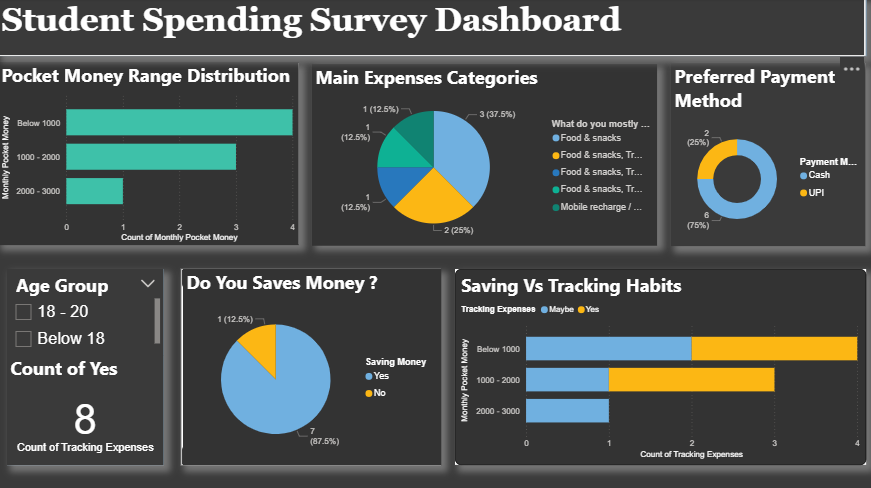

Layout of this report page (visuals, bound fields, positions):
{"tool":"powerbi","page":{"name":"Page 1","canvas":[1280,720],"ordinal":0},"visuals":[{"type":"shape","box":[671.7,417.1,583.9,300],"z":0},{"type":"shape","box":[0,415.6,639.5,300],"z":1000},{"type":"shape","box":[891.2,124.4,379,269.3],"z":2000},{"type":"shape","box":[481.5,124.4,380.5,269.3],"z":3000},{"type":"shape","box":[0,0,1270.2,83.4],"z":4000},{"type":"shape","box":[0,124.4,440.5,269.3],"z":5000},{"type":"actionButton","box":[0,0,100,40],"z":6000},{"type":"barChart","fields":{"Category":["Survey.  How much monthly pocket money do you receive (approx)?  "],"Y":["CountNonNull(Survey.  How much monthly pocket money do you receive (approx)?  )"]},"box":[0,124.4,440.5,269.3],"z":7000},{"type":"pieChart","fields":{"Category":["Survey.What do you mostly spend on?"],"Y":["CountNonNull(Survey.What do you mostly spend on?)"]},"box":[0,415.6,651.2,304.4],"z":8000},{"type":"donutChart","fields":{"Category":["Survey.What is your preferred payment method?"],"Y":["CountNonNull(Survey.What is your preferred payment method?)"]},"box":[481.5,124.4,380.5,269.3],"z":9000},{"type":"pieChart","fields":{"Category":["Survey.  Do you save any part of your money?  "],"Y":["CountNonNull(Survey.  Do you save any part of your money?  )"]},"box":[891.2,124.4,379,269.3],"z":10000},{"type":"barChart","fields":{"Category":["Survey.  How much monthly pocket money do you receive (approx)?  "],"Y":["CountNonNull(Survey.Do you track your expenses?)"],"Series":["Survey.Do you track your expenses?"]},"box":[671.7,415.6,583.9,304.4],"z":11000},{"type":"textbox","box":[0,0,1270.2,84.9],"z":12000}]}

Visuals, with their boxes in screenshot pixels (x1, y1, x2, y2), scaled from the page's 1280x720 canvas onto the 871x488 screenshot:
shape: select_region(457, 283, 854, 486)
shape: select_region(0, 282, 435, 485)
shape: select_region(606, 84, 864, 267)
shape: select_region(328, 84, 587, 267)
shape: select_region(0, 0, 864, 57)
shape: select_region(0, 84, 300, 267)
actionButton: select_region(0, 0, 68, 27)
barChart - Survey.  How much monthly pocket money do you receive (approx)?   x CountNonNull(Survey.  How much monthly pocket money do you receive (approx)?  ): select_region(0, 84, 300, 267)
pieChart - Survey.What do you mostly spend on? x CountNonNull(Survey.What do you mostly spend on?): select_region(0, 282, 443, 487)
donutChart - Survey.What is your preferred payment method? x CountNonNull(Survey.What is your preferred payment method?): select_region(328, 84, 587, 267)
pieChart - Survey.  Do you save any part of your money?   x CountNonNull(Survey.  Do you save any part of your money?  ): select_region(606, 84, 864, 267)
barChart - Survey.  How much monthly pocket money do you receive (approx)?   x CountNonNull(Survey.Do you track your expenses?): select_region(457, 282, 854, 487)
textbox: select_region(0, 0, 864, 58)
